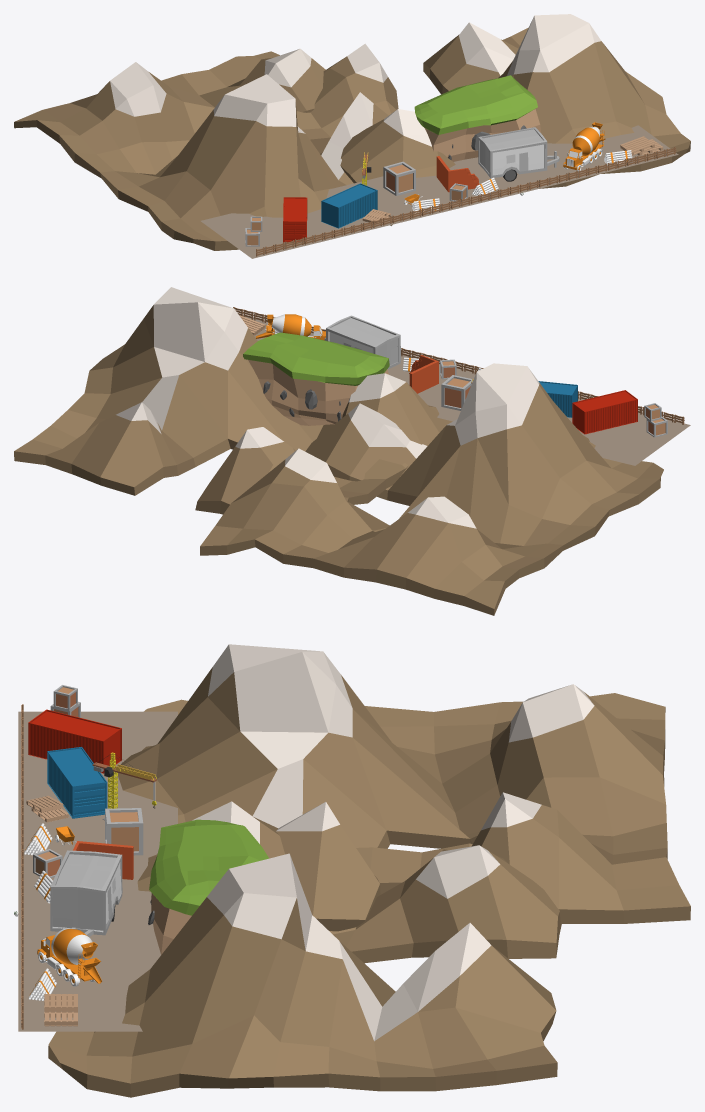
File: Construction map.fbx
3 views of the same model, one above another, from view 1: azimuth 30°, elevation 25°; view 2: azimuth 150°, elevation 25°; view 3: azimuth 270°, elevation 25° (orthographic). The views are drawn at different scales.
Visible parts, largest first — view 1: Pallet; view 2: Pallet; view 3: Pallet.
Boxes of the visible parts, left/top/right/bottom form: Pallet: left=14, top=14, right=690, bottom=258; Pallet: left=14, top=287, right=690, bottom=615; Pallet: left=14, top=644, right=690, bottom=1097.
Size of the model in its own units: 3735 by 1256 by 4959.
24 materials, 10 textured.
